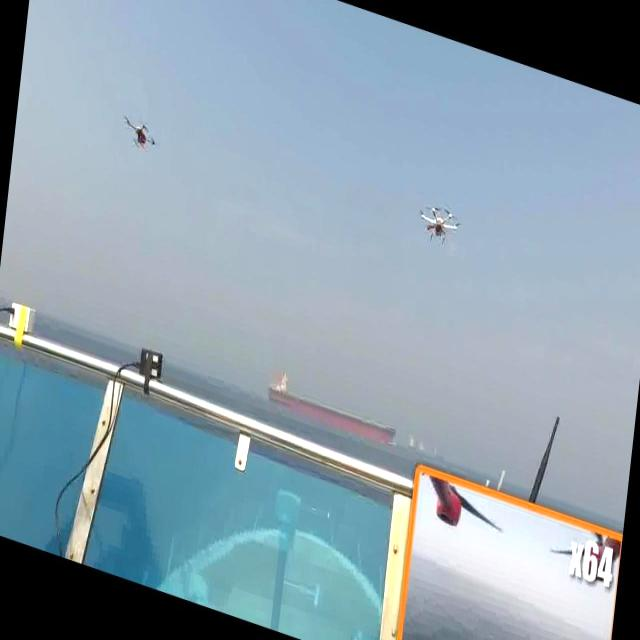drone: (416, 197, 462, 255), (119, 108, 158, 161)
